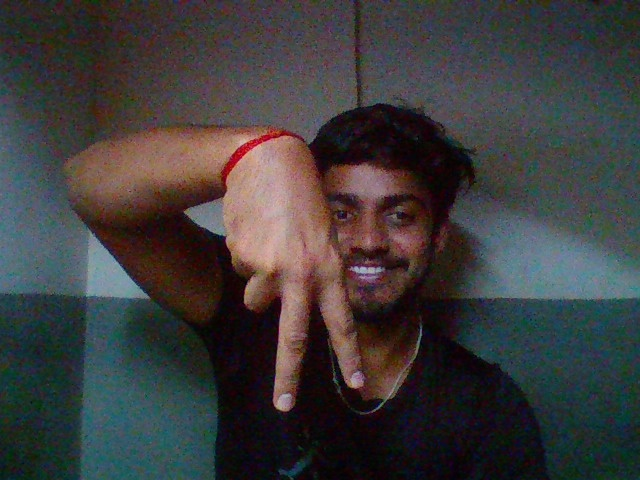N: (187, 121, 380, 411)
